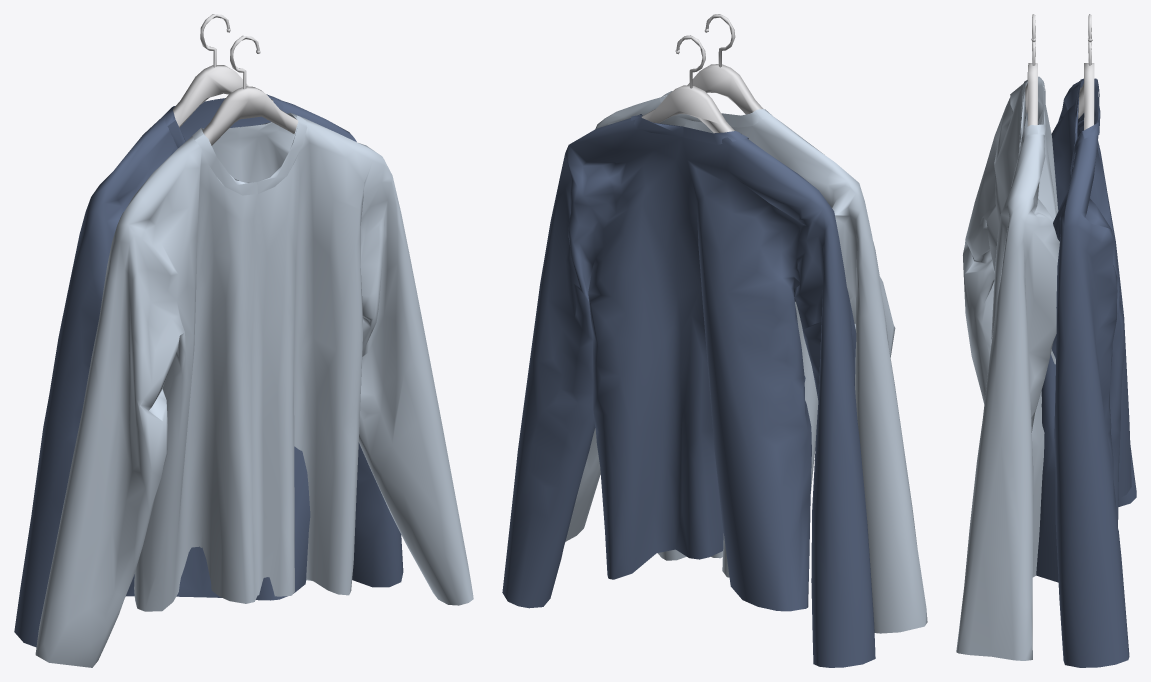
File: shirts_blue.glb
The picture shows the model from 3 angles, left to right: view 1: azimuth 30°, elevation 25°; view 2: azimuth 150°, elevation 25°; view 3: azimuth 270°, elevation 25°; orthographic projection. The views are drawn at different scales.
Visible parts, largest first — view 1: shirts_blue; view 2: shirts_blue; view 3: shirts_blue.
Part boxes in pixels (bbox=[...]): shirts_blue: bbox=[14, 14, 473, 667]; shirts_blue: bbox=[502, 14, 927, 667]; shirts_blue: bbox=[956, 14, 1136, 667].
Size of the model in its own units: 0.5783 by 0.8 by 0.2287.
